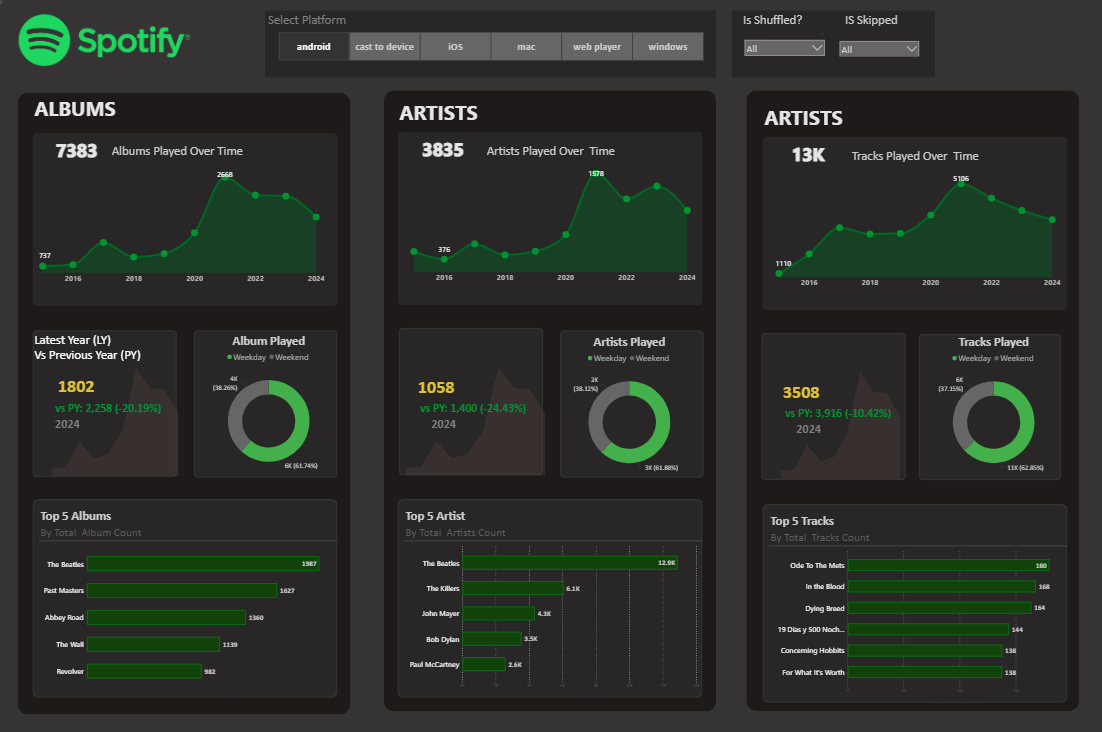

Layout of this report page (visuals, bound fields, positions):
{"tool":"powerbi","page":{"name":"Page 1","canvas":[3300,2200],"ordinal":0},"visuals":[{"type":"shape","box":[811,47.9,1330.8,199.1],"z":0},{"type":"donutChart","title":"Artists Played","fields":{"Category":["Date Table.Weekday_Weeked"],"Y":["spotify_history.No Of Artists"]},"box":[2731.6,1002.7,446,435],"z":1000},{"type":"image","box":[51.6,40.5,575.1,199.1],"z":2000},{"type":"shape","box":[81.5,292.6,981.5,1833.3],"z":3000},{"type":"textbox","box":[127,291.9,386.5,116.2],"z":4000},{"type":"shape","box":[125.9,407.4,900,511.1],"z":5000},{"type":"card","fields":{"Values":["spotify_history.No Of Albums"]},"box":[81.2,407.5,350,100],"z":6000},{"type":"textbox","box":[355.6,433.3,511.1,74.1],"z":7000},{"type":"areaChart","fields":{"Category":["Date Table.Year"],"Y":["spotify_history.No Of Albums"]},"box":[125.9,507.4,866.7,355.6],"z":8000},{"type":"shape","box":[125.9,992.6,425.9,433.3],"z":9000},{"type":"areaChart","fields":{"Category":["Date Table.Year"],"Y":["spotify_history.No Of Albums"]},"box":[125.3,1069,446,357.6],"z":10000},{"type":"textbox","box":[126.5,991.2,364.7,108.8],"z":11000},{"type":"card","fields":{"Values":["spotify_history.CurrentYearAlbum"]},"box":[77.4,1098.5,353.9,103.2],"z":12000},{"type":"actionButton","box":[0,0,100,40],"z":13000},{"type":"card","fields":{"Values":["spotify_history.PY and YoY Album KPI"]},"box":[143.8,1168.6,409.2,99.5],"z":14000},{"type":"slicer","fields":{"Values":["spotify_history.platform"]},"box":[825.7,92.2,1301.3,110.6],"z":15000},{"type":"card","fields":{"Values":["spotify_history.Max Year"]},"box":[51.6,1216.5,353.9,99.5],"z":16000},{"type":"shape","box":[600.9,991.6,423.9,435],"z":17000},{"type":"donutChart","title":"Album Played","fields":{"Category":["Date Table.Weekday_Weeked"],"Y":["spotify_history.No Of Albums"]},"box":[600.9,999,442.4,435],"z":18000},{"type":"shape","box":[125.3,1489.3,899.5,586.1],"z":19000},{"type":"barChart","title":"Top  5 Albums","fields":{"Category":["spotify_history.album_name"],"Y":["CountNonNull(spotify_history.album_name)"]},"box":[143.8,1515.1,881,560.3],"z":20000},{"type":"shape","box":[1161.2,283.8,980.6,1832.1],"z":21000},{"type":"shape","box":[1201.7,405.5,899.5,512.4],"z":22000},{"type":"card","fields":{"Values":["spotify_history.No Of Artists"]},"box":[1161.2,405.5,350.2,99.5],"z":23000},{"type":"areaChart","fields":{"Category":["Date Table.Year"],"Y":["spotify_history.No Of Artists"]},"box":[1220.2,505,866.3,357.6],"z":24000},{"type":"shape","box":[1204.3,982.6,426.1,434.8],"z":25000},{"type":"areaChart","fields":{"Category":["Date Table.Year"],"Y":["spotify_history.No Of Albums"]},"box":[1165.2,1069.6,487,356.5],"z":26000},{"type":"shape","box":[1681,991.6,423.9,435],"z":27000},{"type":"donutChart","title":"Artists Played","fields":{"Category":["Date Table.Weekday_Weeked"],"Y":["spotify_history.No Of Artists"]},"box":[1662.5,1002.7,446,435],"z":28000},{"type":"card","fields":{"Values":["spotify_history.CurrentYearArtist"]},"box":[1139.1,1102.2,353.9,103.2],"z":29000},{"type":"card","fields":{"Values":["spotify_history.PY and YoY Artists KPI"]},"box":[1220.2,1168.6,409.2,99.5],"z":30000},{"type":"card","fields":{"Values":["spotify_history.Max Year"]},"box":[1161.2,1216.5,353.9,99.5],"z":31000},{"type":"shape","box":[1201.7,1489.3,899.5,586.1],"z":32000},{"type":"barChart","title":"Top  5 Artist","fields":{"Category":["spotify_history.artist_name"],"Y":["CountNonNull(spotify_history.artist_name)"]},"box":[1220.2,1515.1,881,560.3],"z":33000},{"type":"textbox","box":[1201.7,302.3,836.8,114.3],"z":34000},{"type":"textbox","box":[1459.8,435,505,70],"z":35000},{"type":"shape","box":[2230.4,282.6,982.6,1830.4],"z":36000},{"type":"shape","box":[2279.6,419,899.5,512.4],"z":37000},{"type":"card","fields":{"Values":["spotify_history.No of Tracks"]},"box":[2239,419,350.2,99.5],"z":38000},{"type":"areaChart","fields":{"Category":["Date Table.Year"],"Y":["spotify_history.No of Tracks"]},"box":[2298,518.5,866.3,357.6],"z":39000},{"type":"shape","box":[2273.9,1000,426.1,434.8],"z":40000},{"type":"areaChart","fields":{"Category":["Date Table.Year"],"Y":["spotify_history.No Of Albums"]},"box":[2278.2,1080.1,420.2,353.9],"z":41000},{"type":"card","fields":{"Values":["spotify_history.CurrentYearTracks"]},"box":[2216.9,1115.7,353.9,103.2],"z":42000},{"type":"card","fields":{"Values":["spotify_history.PY and YoY Tracks KPI"]},"box":[2298,1182.1,409.2,99.5],"z":43000},{"type":"card","fields":{"Values":["spotify_history.Max Year"]},"box":[2239,1230,353.9,99.5],"z":44000},{"type":"shape","box":[2279.6,1502.8,899.5,586.1],"z":45000},{"type":"shape","box":[2739,1002.7,420.2,431.3],"z":46000},{"type":"barChart","title":"Top  5 Tracks","fields":{"Category":["spotify_history.track_name"],"Y":["CountNonNull(spotify_history.track_name)"]},"box":[2298,1528.6,881,560.3],"z":47000},{"type":"textbox","box":[2279.6,315.8,836.8,114.3],"z":48000},{"type":"textbox","box":[2537.6,448.5,505,70],"z":49000},{"type":"donutChart","title":"Tracks Played","fields":{"Category":["Date Table.Weekday_Weeked"],"Y":["spotify_history.No of Tracks"]},"box":[2739,1002.7,442.4,435],"z":50000},{"type":"textbox","box":[814.7,47.9,696.7,77.4],"z":51000},{"type":"shape","box":[2186,47.9,600.9,199.1],"z":52000},{"type":"slicer","fields":{"Values":["spotify_history.shuffle"]},"box":[2215.5,106.9,256,75],"z":53000},{"type":"slicer","fields":{"Values":["spotify_history.skipped"]},"box":[2495.7,110.6,254.4,73.7],"z":54000},{"type":"textbox","box":[2215.5,47.9,556.6,77.4],"z":55000}]}

Visuals, with their boxes in screenshot pixels (x1, y1, x2, y2), scaled from the page's 3300x2200 canvas onto the 1102x732 screenshot:
shape: [left=271, top=16, right=715, bottom=82]
"Artists Played" donutChart: [left=912, top=334, right=1061, bottom=478]
image: [left=17, top=13, right=209, bottom=80]
shape: [left=27, top=97, right=355, bottom=707]
textbox: [left=42, top=97, right=171, bottom=136]
shape: [left=42, top=136, right=343, bottom=306]
card - spotify_history.No Of Albums: [left=27, top=136, right=144, bottom=169]
textbox: [left=119, top=144, right=289, bottom=169]
areaChart - Date Table.Year x spotify_history.No Of Albums: [left=42, top=169, right=331, bottom=287]
shape: [left=42, top=330, right=184, bottom=474]
areaChart - Date Table.Year x spotify_history.No Of Albums: [left=42, top=356, right=191, bottom=475]
textbox: [left=42, top=330, right=164, bottom=366]
card - spotify_history.CurrentYearAlbum: [left=26, top=366, right=144, bottom=400]
actionButton: [left=0, top=0, right=33, bottom=13]
card - spotify_history.PY and YoY Album KPI: [left=48, top=389, right=185, bottom=422]
slicer - spotify_history.platform: [left=276, top=31, right=710, bottom=67]
card - spotify_history.Max Year: [left=17, top=405, right=135, bottom=438]
shape: [left=201, top=330, right=342, bottom=475]
"Album Played" donutChart: [left=201, top=332, right=348, bottom=477]
shape: [left=42, top=496, right=342, bottom=691]
"Top  5 Albums" barChart: [left=48, top=504, right=342, bottom=691]
shape: [left=388, top=94, right=715, bottom=704]
shape: [left=401, top=135, right=702, bottom=305]
card - spotify_history.No Of Artists: [left=388, top=135, right=505, bottom=168]
areaChart - Date Table.Year x spotify_history.No Of Artists: [left=407, top=168, right=697, bottom=287]
shape: [left=402, top=327, right=544, bottom=472]
areaChart - Date Table.Year x spotify_history.No Of Albums: [left=389, top=356, right=552, bottom=475]
shape: [left=561, top=330, right=703, bottom=475]
"Artists Played" donutChart: [left=555, top=334, right=704, bottom=478]
card - spotify_history.CurrentYearArtist: [left=380, top=367, right=499, bottom=401]
card - spotify_history.PY and YoY Artists KPI: [left=407, top=389, right=544, bottom=422]
card - spotify_history.Max Year: [left=388, top=405, right=506, bottom=438]
shape: [left=401, top=496, right=702, bottom=691]
"Top  5 Artist" barChart: [left=407, top=504, right=702, bottom=691]
textbox: [left=401, top=101, right=681, bottom=139]
textbox: [left=487, top=145, right=656, bottom=168]
shape: [left=745, top=94, right=1073, bottom=703]
shape: [left=761, top=139, right=1062, bottom=310]
card - spotify_history.No of Tracks: [left=748, top=139, right=865, bottom=173]
areaChart - Date Table.Year x spotify_history.No of Tracks: [left=767, top=173, right=1057, bottom=292]
shape: [left=759, top=333, right=902, bottom=477]
areaChart - Date Table.Year x spotify_history.No Of Albums: [left=761, top=359, right=901, bottom=477]
card - spotify_history.CurrentYearTracks: [left=740, top=371, right=858, bottom=406]
card - spotify_history.PY and YoY Tracks KPI: [left=767, top=393, right=904, bottom=426]
card - spotify_history.Max Year: [left=748, top=409, right=866, bottom=442]
shape: [left=761, top=500, right=1062, bottom=695]
shape: [left=915, top=334, right=1055, bottom=477]
"Top  5 Tracks" barChart: [left=767, top=509, right=1062, bottom=695]
textbox: [left=761, top=105, right=1041, bottom=143]
textbox: [left=847, top=149, right=1016, bottom=173]
"Tracks Played" donutChart: [left=915, top=334, right=1062, bottom=478]
textbox: [left=272, top=16, right=505, bottom=42]
shape: [left=730, top=16, right=931, bottom=82]
slicer - spotify_history.shuffle: [left=740, top=36, right=825, bottom=61]
slicer - spotify_history.skipped: [left=833, top=37, right=918, bottom=61]
textbox: [left=740, top=16, right=926, bottom=42]
